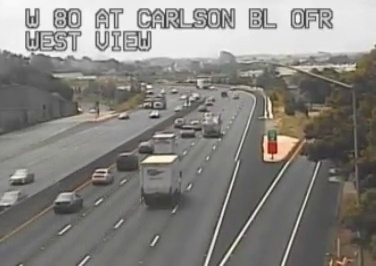car: (53, 192, 82, 213), (91, 168, 111, 184), (116, 153, 136, 169), (138, 142, 152, 153)
small-truck: (140, 155, 180, 202), (152, 134, 175, 153)
